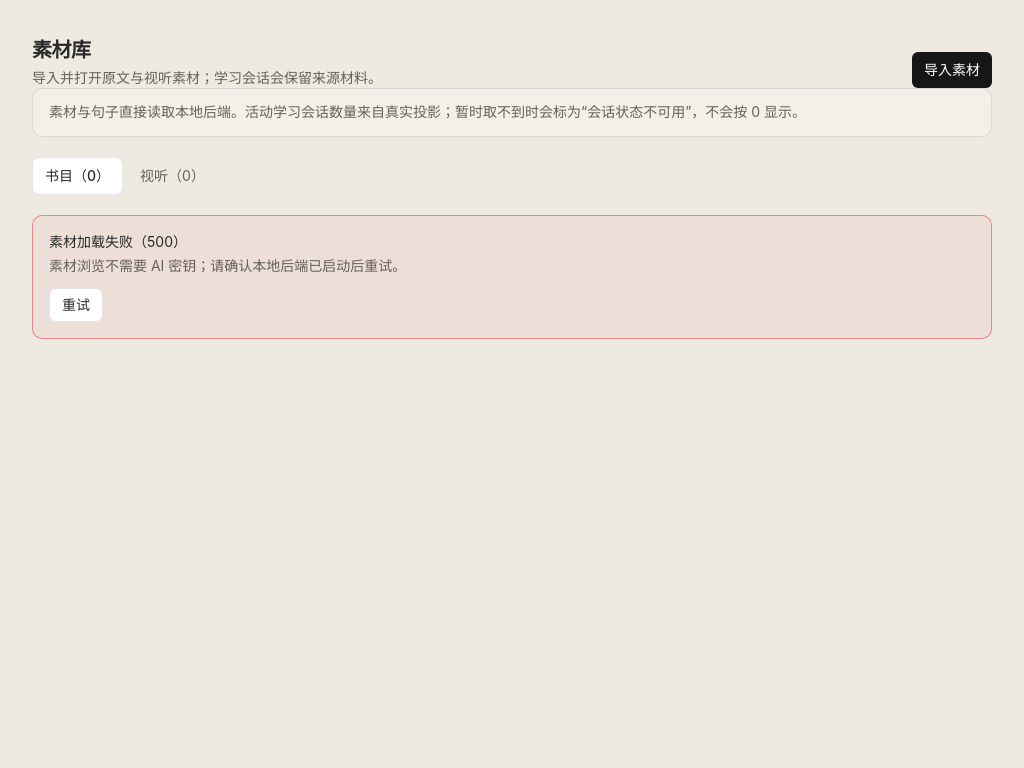
LibraryScreen material states › 素材加载失败时给出 role=alert 与重试，重试会重新拉取素材
Expected: the message shows "素材加载失败（500）", [49,233,187,250]
Click the button "重试". click: (76, 305)
box: [49,288,103,322]
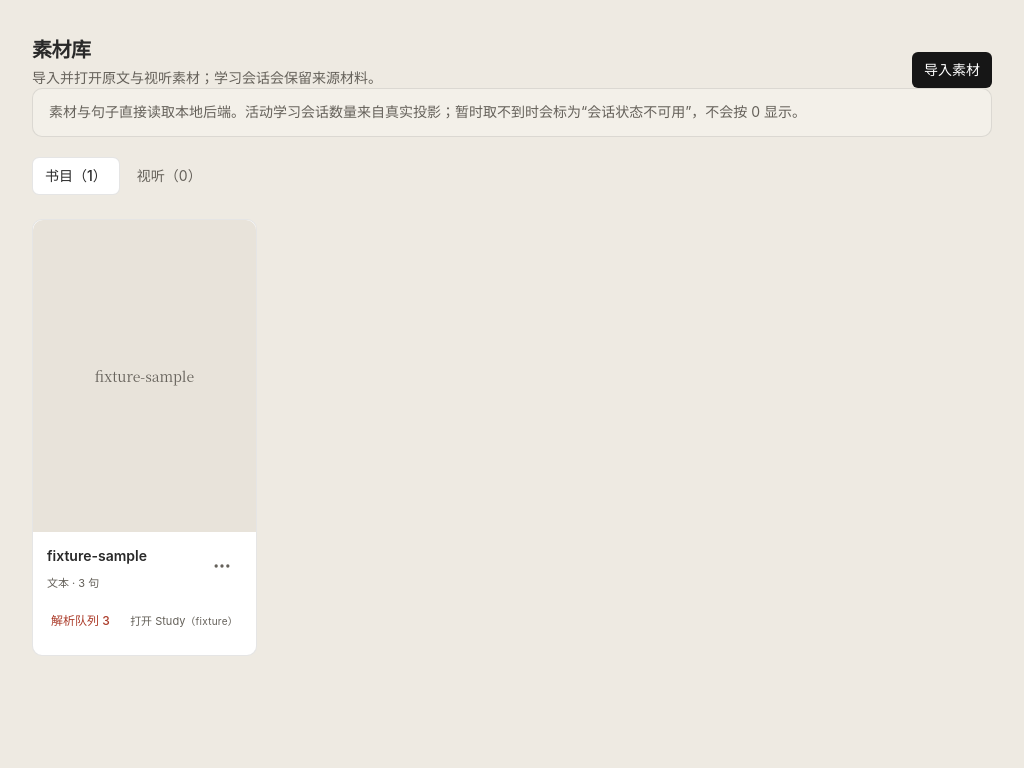
Now the button with aria-label "打开《fixture-sample》" is shown, box [47,546,194,566]
Now the message "素材加载失败（500） 素材浏览不需要 AI 密钥；请确认本地后端已启动后重试。 重试" is gone
